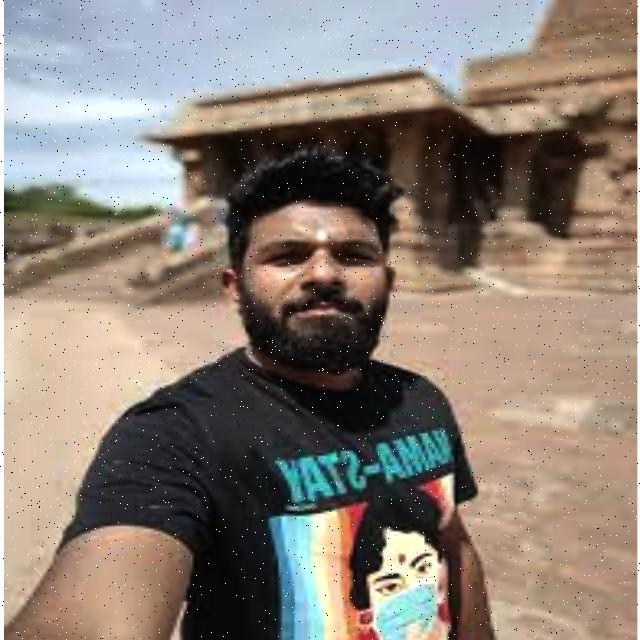face_no_mask: (213, 206, 399, 364)
